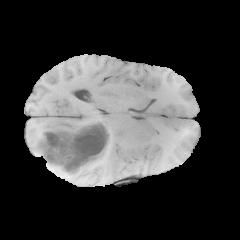glioma: (36, 123, 109, 177)
